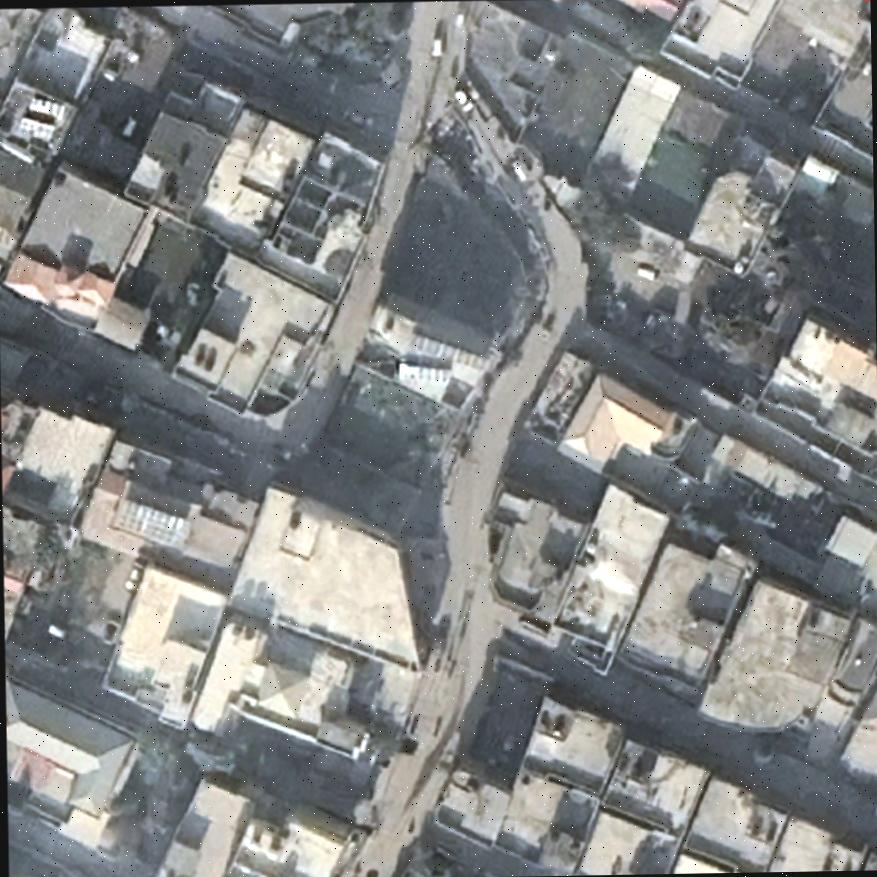Solarpanel: (105, 493, 194, 550), (406, 327, 490, 372), (391, 360, 445, 387), (13, 111, 58, 140), (23, 94, 63, 117)
